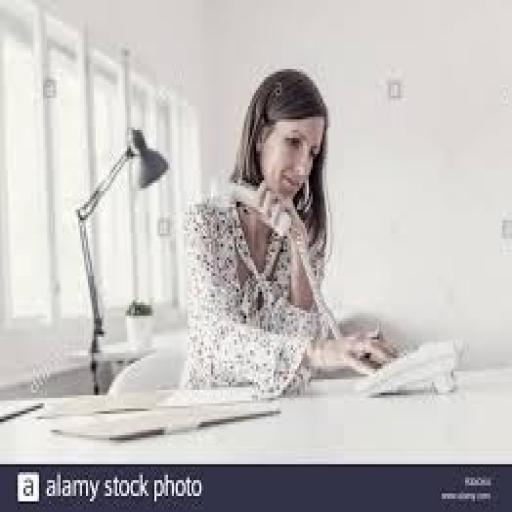calling: (180, 66, 393, 401)
